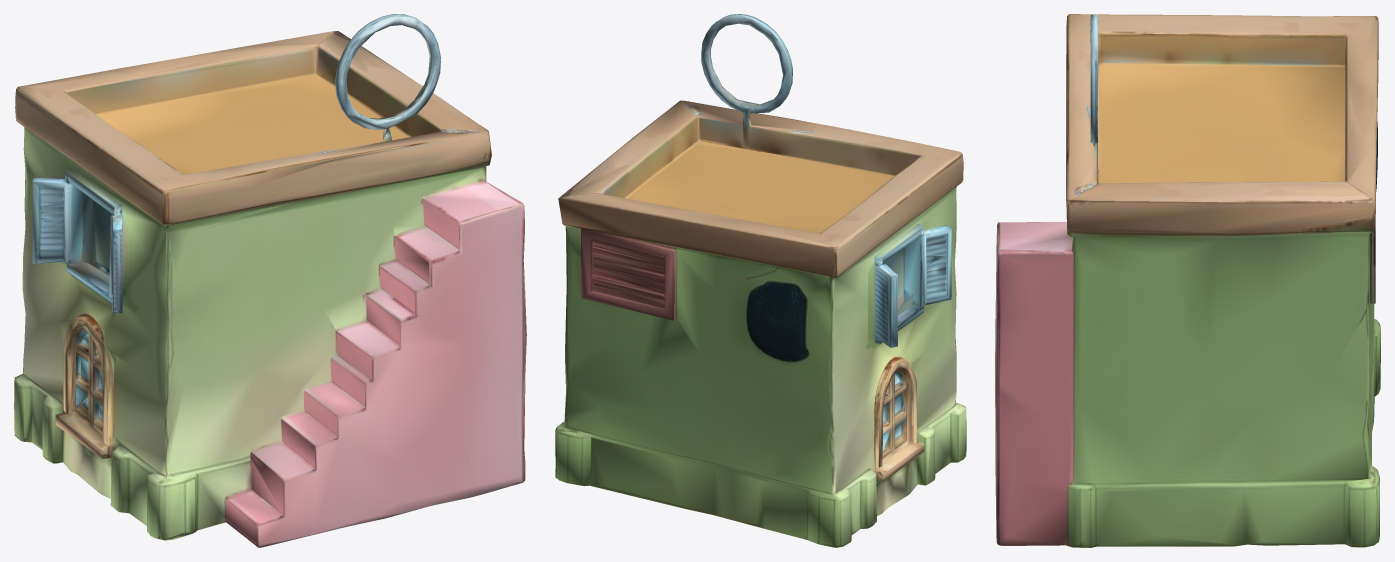
The picture shows the model from 3 angles, left to right: view 1: azimuth 30°, elevation 25°; view 2: azimuth 150°, elevation 25°; view 3: azimuth 270°, elevation 25°; orthographic projection. The views are drawn at different scales.
Parts seen in each view (by area): view 1: node_0; view 2: node_0; view 3: node_0.
Boxes of the visible parts, box(x1,y1,x2,y2) form: node_0: box(14, 14, 526, 547); node_0: box(555, 14, 966, 547); node_0: box(995, 14, 1380, 547).
Bounding box in the file's own units: 6.65 × 8.12 × 5.9.
1 material, 1 textured.
